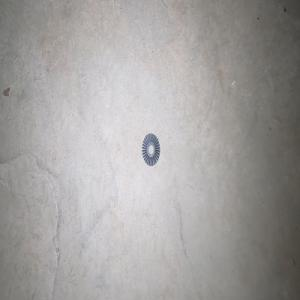Washer: (141, 133, 160, 166)
